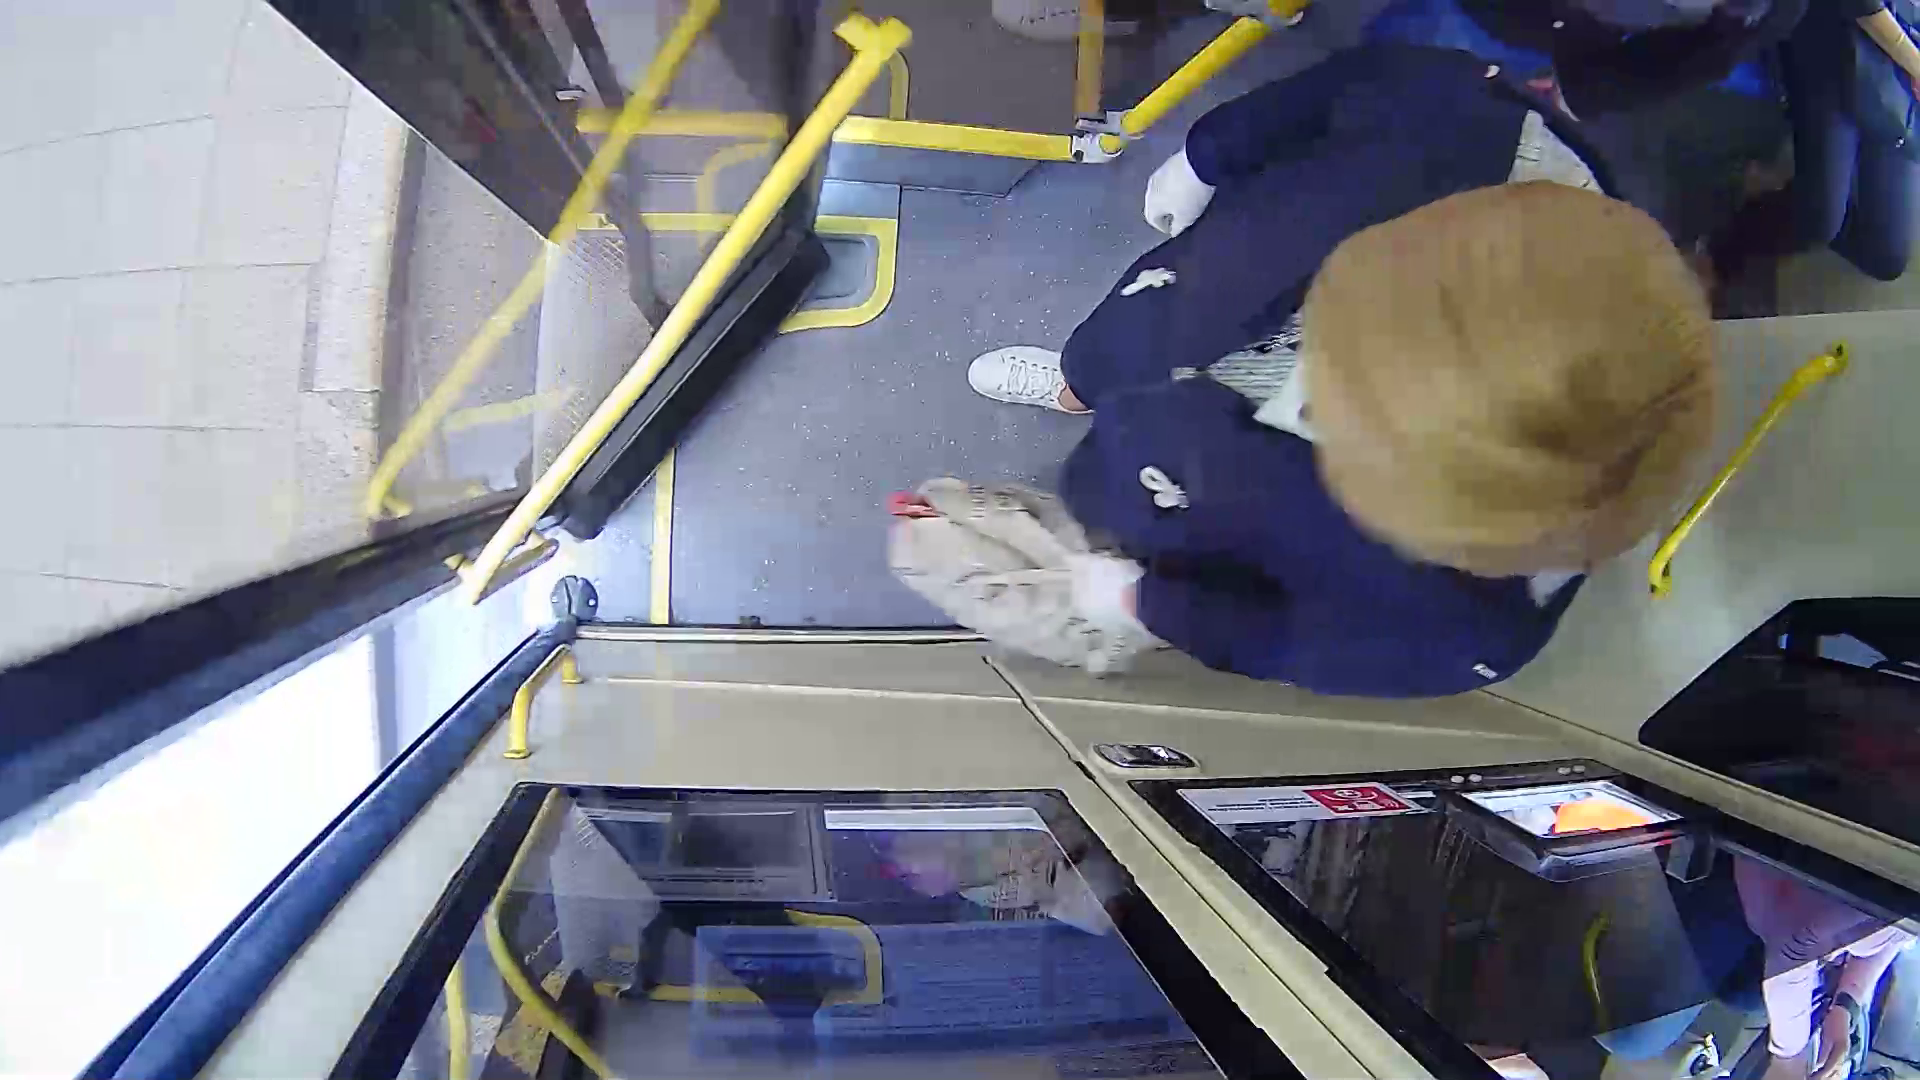person: (1016, 64, 1704, 728)
